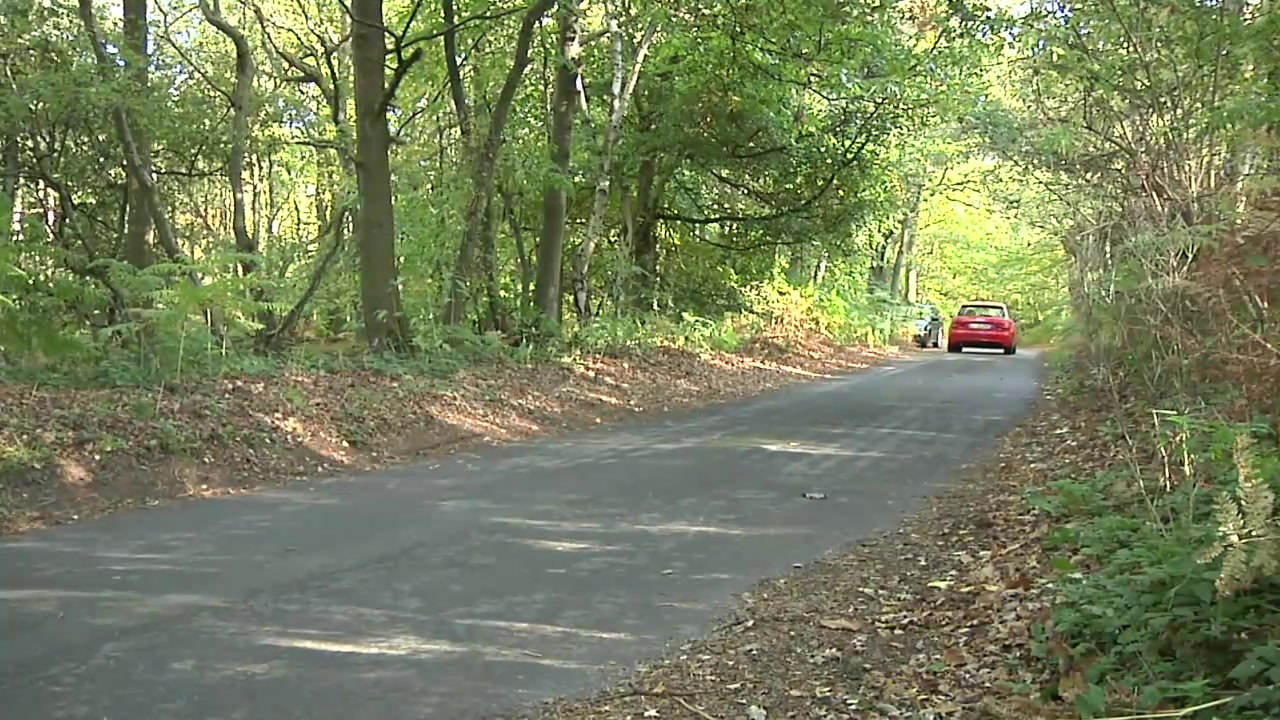car: (944, 301, 1023, 359)
